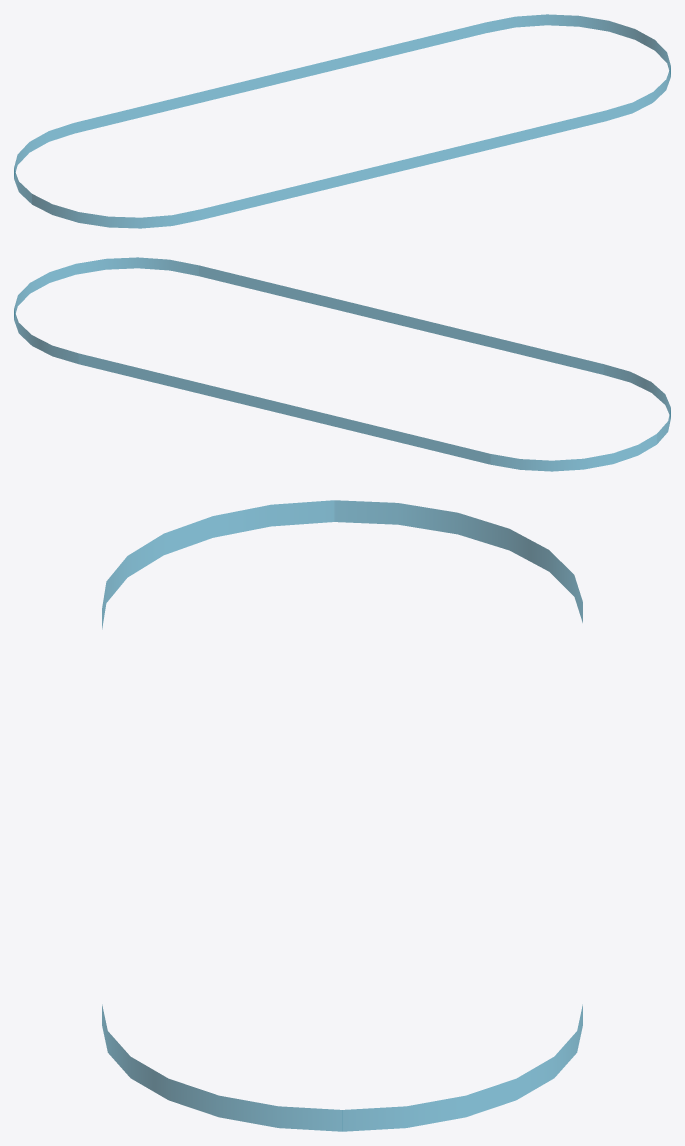
Rendered from RinkGlass.fbx.
3 renders of one model, top to bottom at view 1: azimuth 30°, elevation 25°; view 2: azimuth 150°, elevation 25°; view 3: azimuth 270°, elevation 25°, orthographic. The views are drawn at different scales.
Parts seen in each view (by area): view 1: Group1; view 2: Group1; view 3: Group1.
Part boxes in pixels (box(x1,y1,x2,y2)): Group1: box(14, 14, 670, 228); Group1: box(14, 257, 670, 471); Group1: box(102, 500, 582, 1131).
Size of the model in its own units: 6001 by 100 by 2000.
